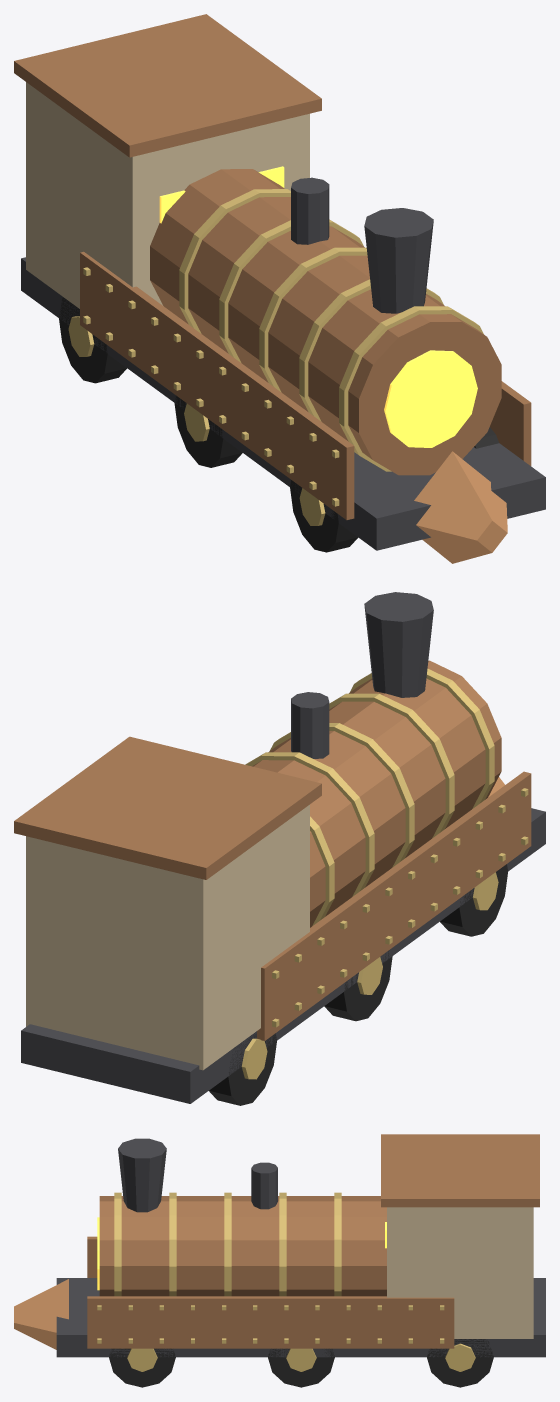
File: locomotive.glb
3 renders of one model, top to bottom at view 1: azimuth 30°, elevation 25°; view 2: azimuth 150°, elevation 25°; view 3: azimuth 270°, elevation 25°, orthographic. The views are drawn at different scales.
Parts seen in each view (by area): view 1: chassis, wheel_rl, wheel_ml, wheel_fl; view 2: chassis, wheel_rl, wheel_fl, wheel_ml; view 3: chassis, wheel_rr, wheel_fr, wheel_mr.
Boxes of the visible parts, x1=… form: chassis: x1=14, y1=14, x2=545, y2=563; wheel_rl: x1=59, y1=297, x2=126, y2=383; wheel_ml: x1=174, y1=395, x2=242, y2=467; wheel_fl: x1=290, y1=480, x2=358, y2=552; chassis: x1=14, y1=592, x2=545, y2=1103; wheel_rl: x1=209, y1=1033, x2=276, y2=1105; wheel_fl: x1=440, y1=864, x2=508, y2=936; wheel_ml: x1=324, y1=950, x2=392, y2=1021; chassis: x1=14, y1=1134, x2=545, y2=1357; wheel_rr: x1=427, y1=1339, x2=493, y2=1387; wheel_fr: x1=109, y1=1348, x2=175, y2=1387; wheel_mr: x1=268, y1=1348, x2=334, y2=1387.
Bounding box in the file's own units: 2.51 × 3.8 × 8.7.
